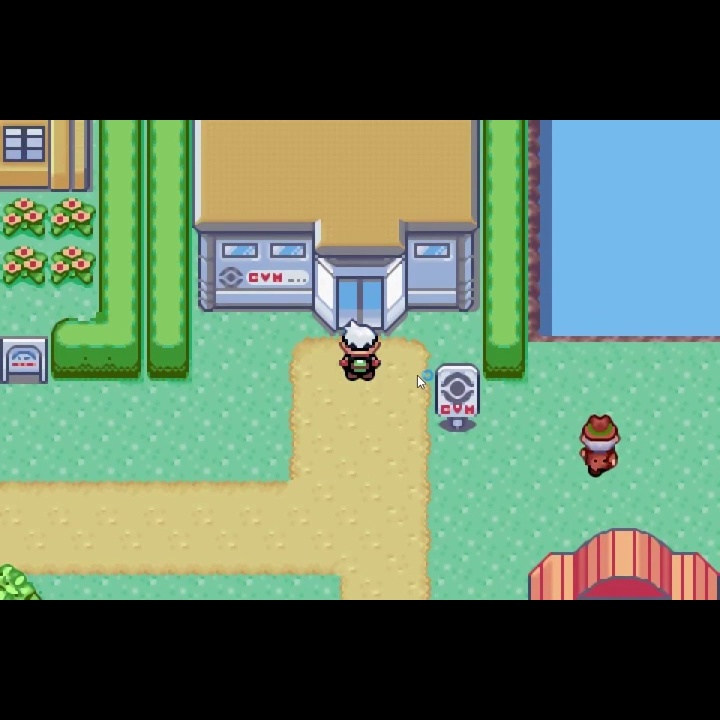gym: (191, 120, 481, 339)
npc: (576, 410, 624, 481), (336, 317, 384, 386)
pokecen: (525, 526, 720, 600)
wall: (1, 563, 45, 600)
